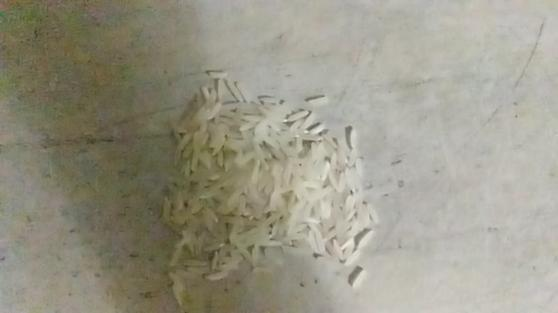rice: (147, 63, 381, 312)
